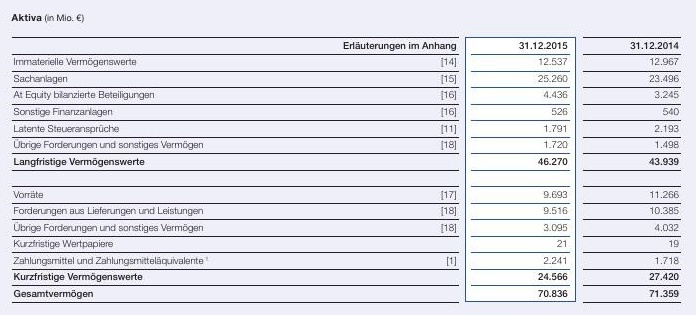table: (0, 0, 696, 315)
